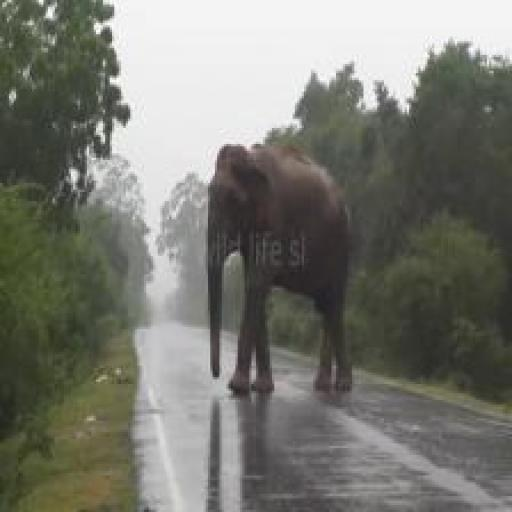Elephant: (206, 135, 355, 409)
